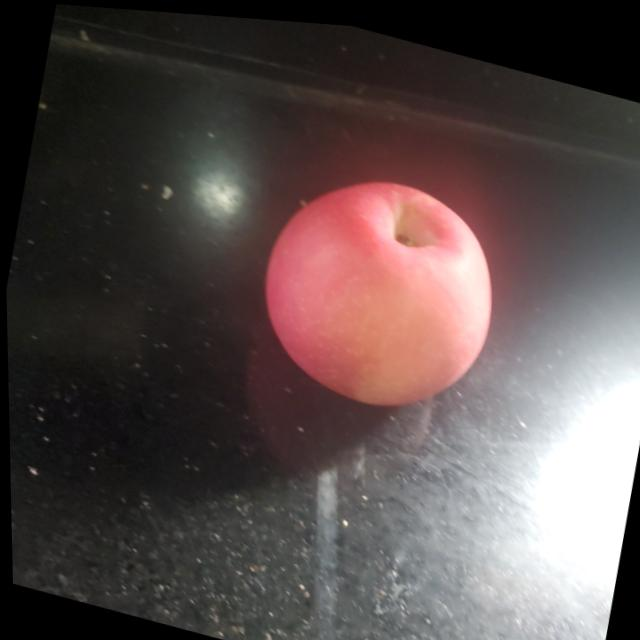apple: (245, 151, 515, 431)
